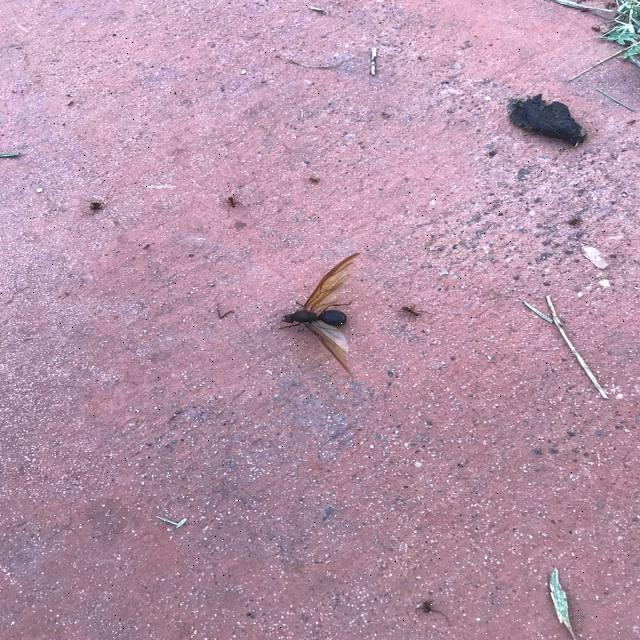Alive-Female-Alate: (271, 252, 361, 378)
